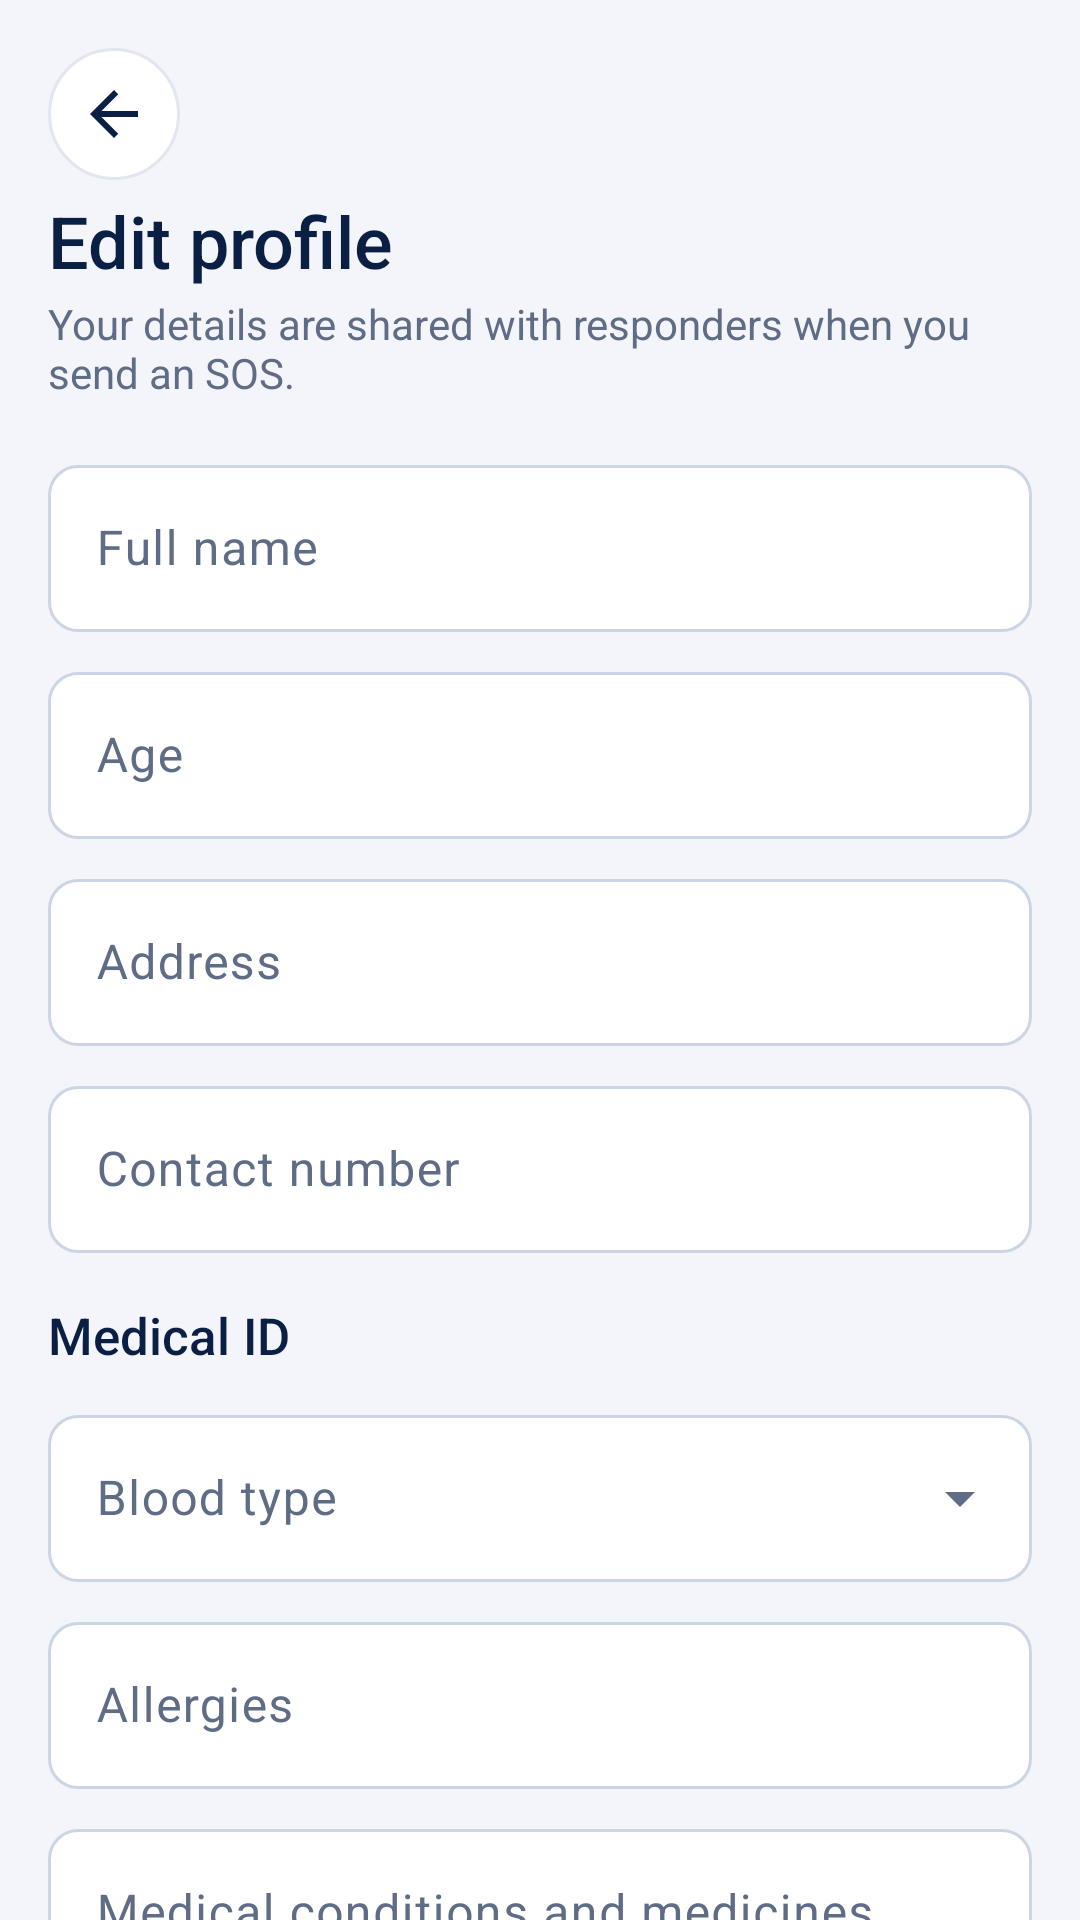

Screen size 1080 x 1920. Icon name, then its box in pixels as bbox=[x1, y1, x2, y2]:
Back: bbox=[48, 48, 180, 180]
